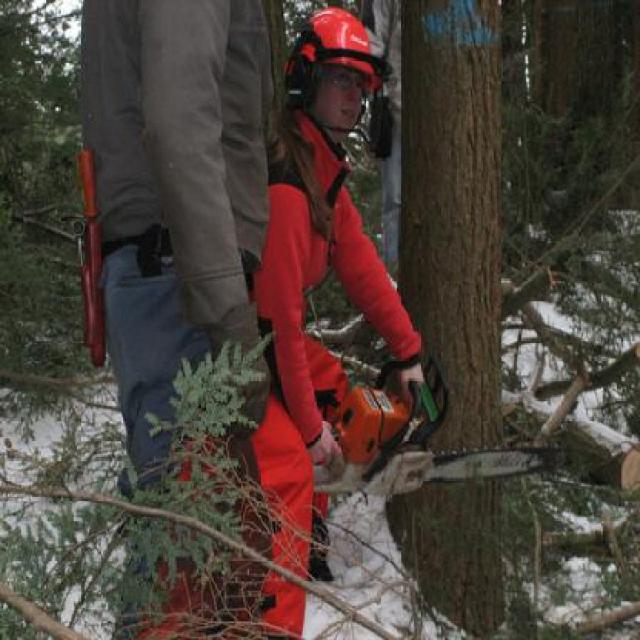Chainsaw: (311, 348, 569, 508)
